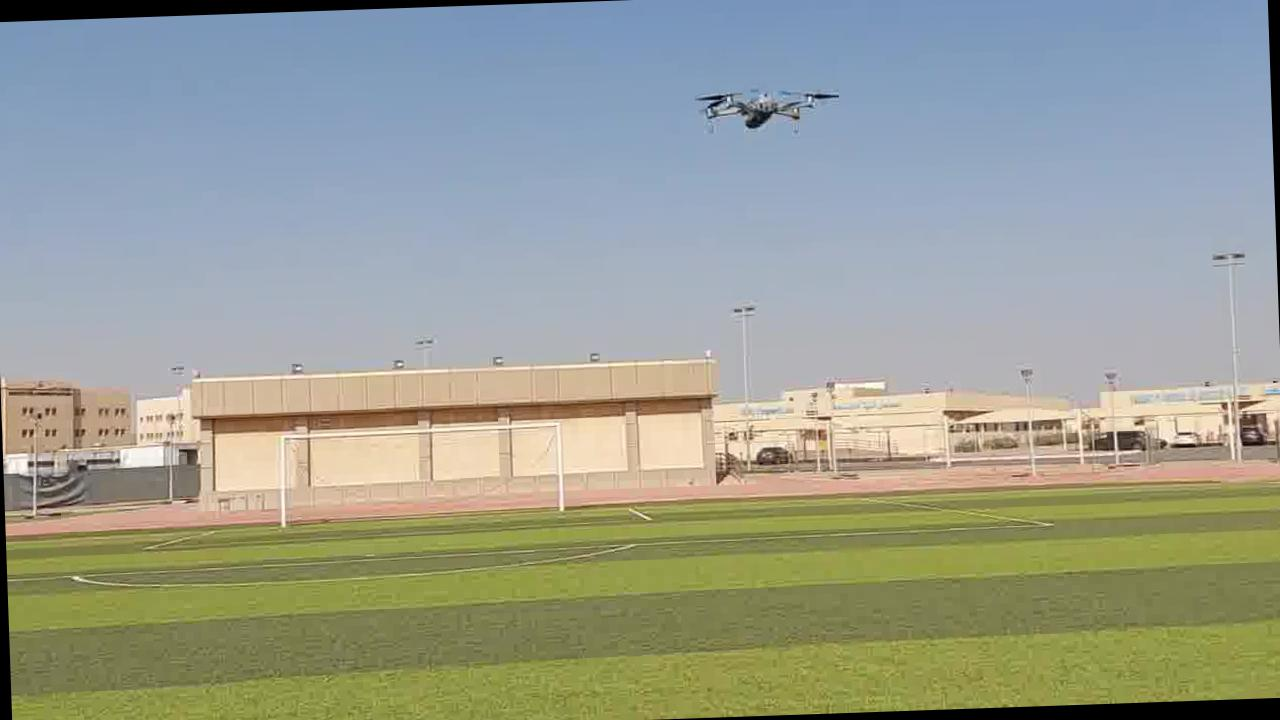drone: (686, 82, 848, 144)
